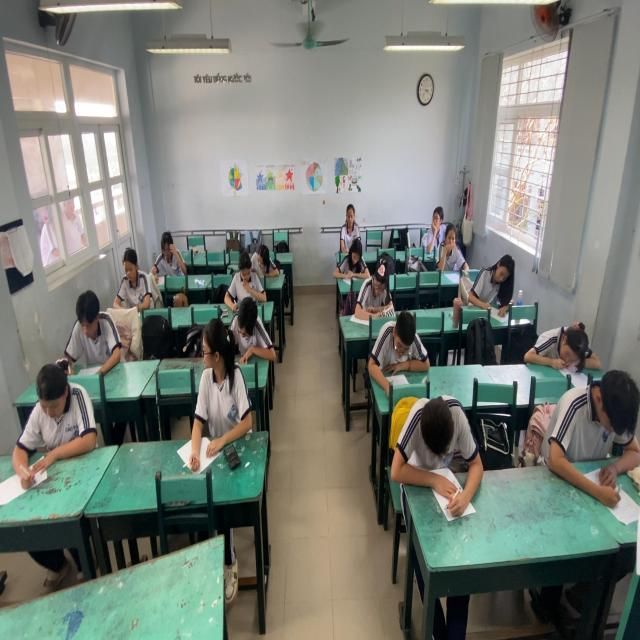cheating: (186, 305, 257, 426), (423, 201, 448, 243)
not_cheating: (553, 371, 640, 489), (14, 358, 94, 464), (401, 398, 487, 478), (57, 288, 125, 368), (526, 312, 597, 381), (374, 309, 432, 381), (228, 298, 278, 378), (469, 250, 518, 315), (110, 250, 152, 305), (147, 222, 185, 281), (432, 226, 469, 278), (228, 247, 265, 298), (362, 257, 393, 316), (245, 239, 282, 281), (339, 236, 372, 281), (341, 197, 360, 246)
